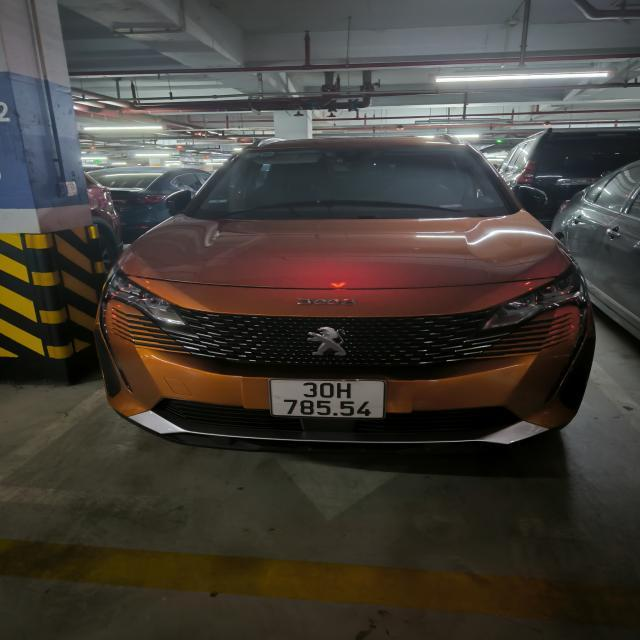license: (269, 377, 385, 420)
